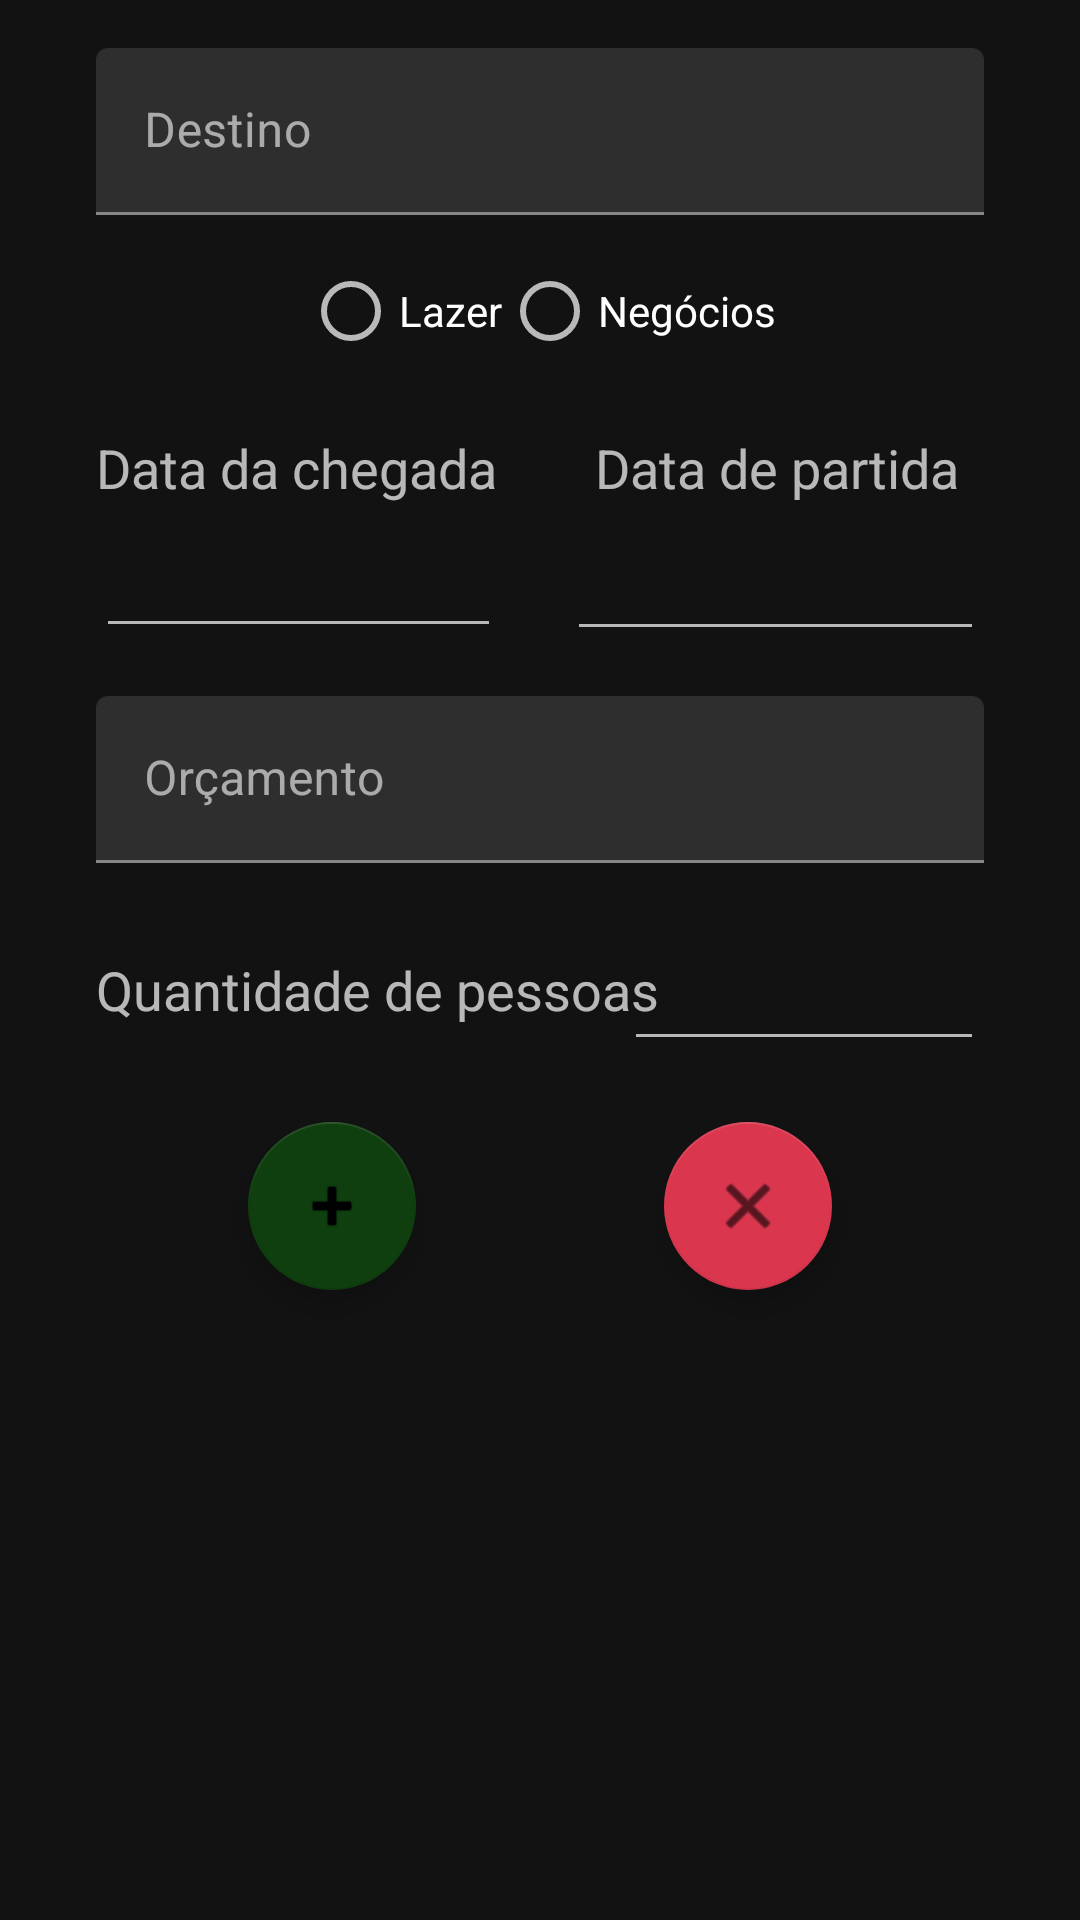

Point at icon controls on the screen. Image size 1080px x 1920px, points as [x,y].
add: [332,1206]
close clear cancel: [748,1206]
